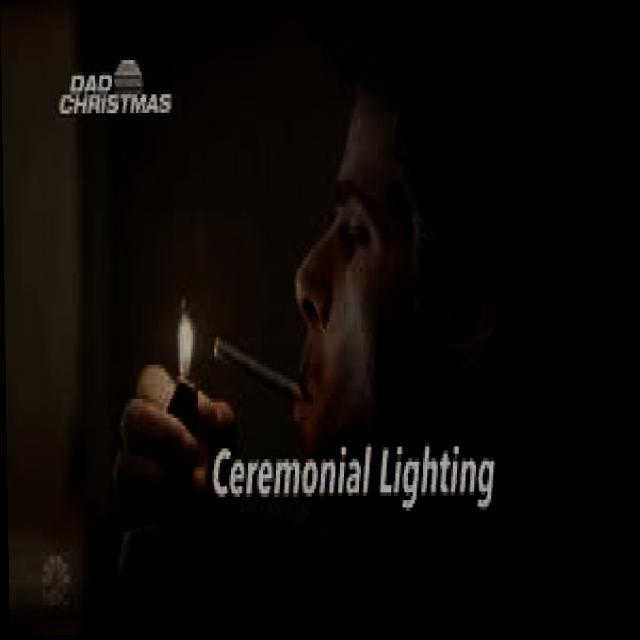Fire: (168, 296, 203, 376)
